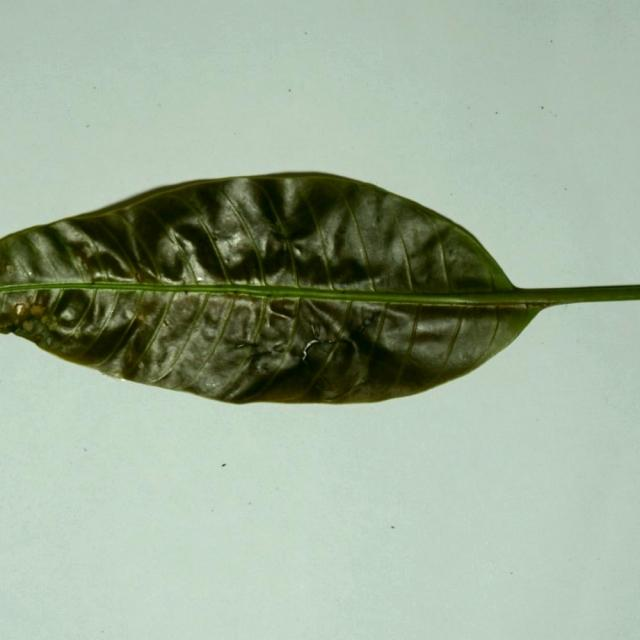Anthracnose: (118, 285, 303, 391), (12, 278, 150, 371), (0, 291, 148, 330)
Mango: (0, 173, 639, 406)
